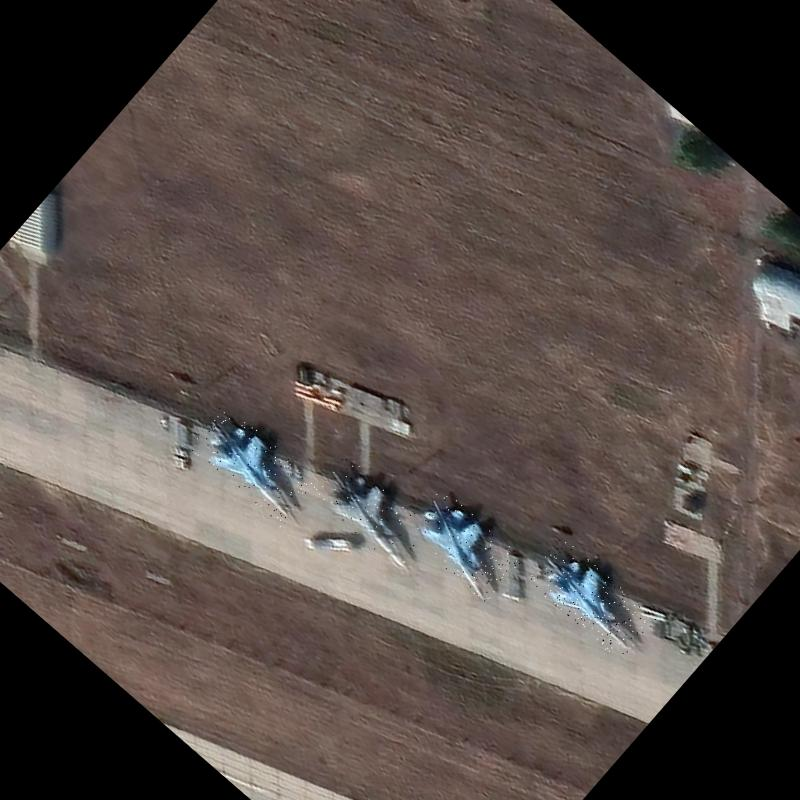A19: (524, 536, 657, 662), (186, 402, 318, 528), (310, 453, 440, 577), (402, 487, 524, 604)
